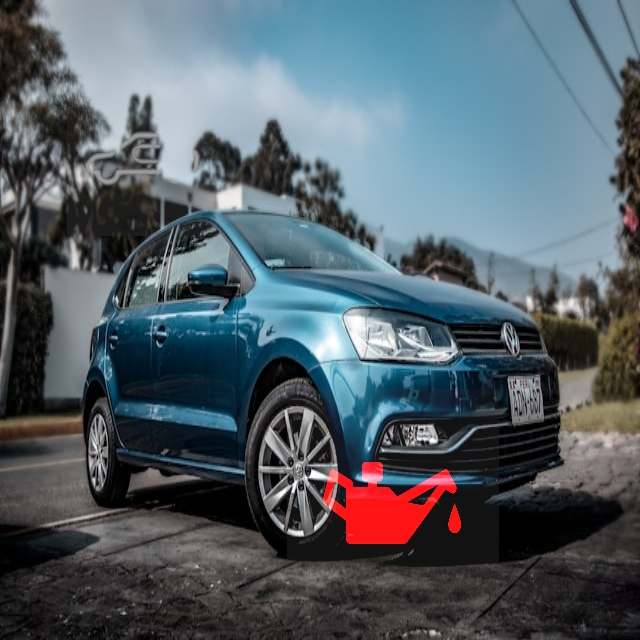symbol: (287, 389, 499, 601), (67, 85, 218, 236)
